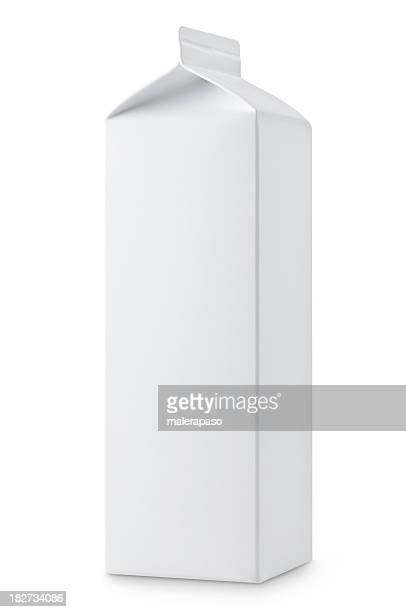carton: (92, 16, 337, 591)
